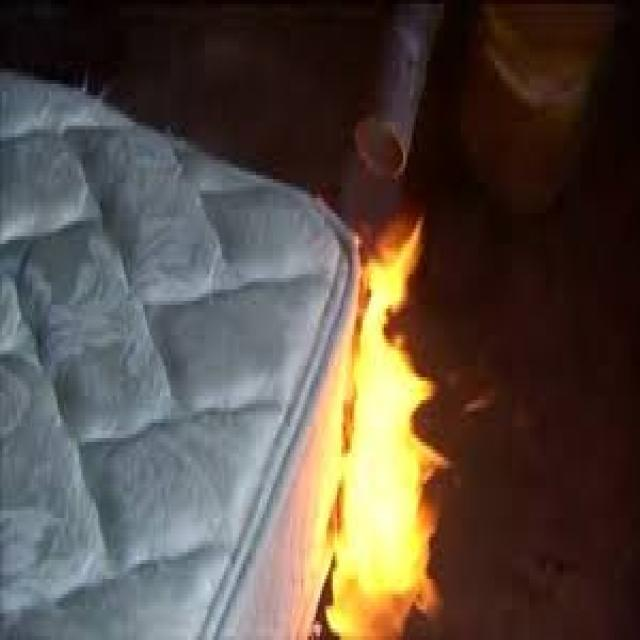fire: (324, 514, 444, 640), (330, 394, 451, 484), (320, 484, 436, 564), (334, 313, 438, 401), (354, 219, 423, 314)
